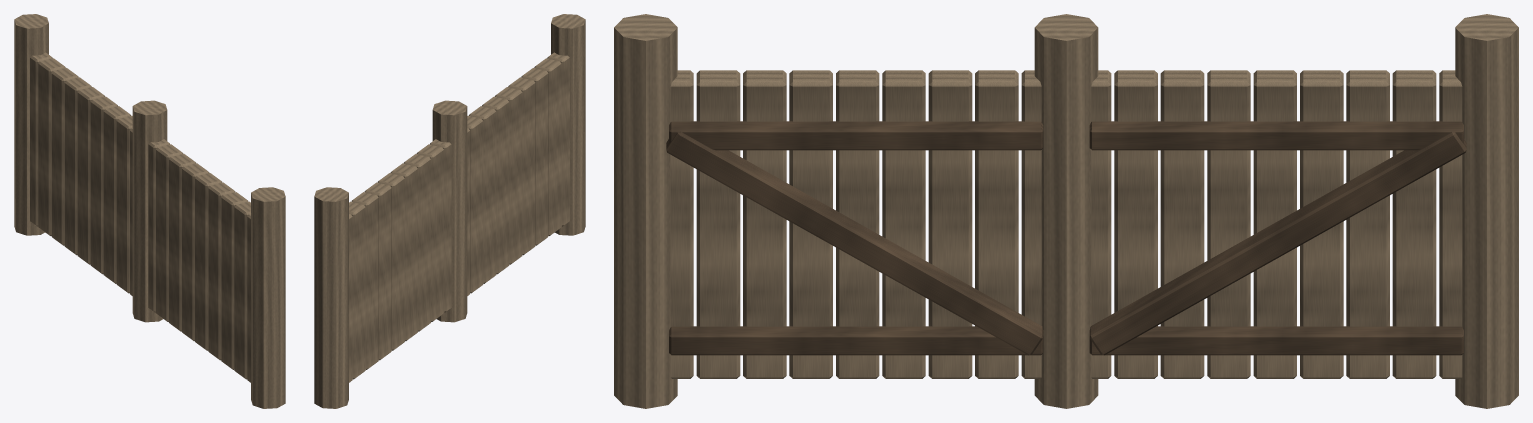
The model's file is gate.glb.
The picture shows the model from 3 angles, left to right: view 1: azimuth 30°, elevation 25°; view 2: azimuth 150°, elevation 25°; view 3: azimuth 270°, elevation 25°; orthographic projection. The views are drawn at different scales.
Parts seen in each view (by area): view 1: gate__Timber_worn_edges; view 2: gate__Timber_worn_edges; view 3: gate__Timber_worn_edges, gate__Dark_endgrain.
Part boxes in pixels (x1=…): gate__Timber_worn_edges: x1=14, y1=14, x2=285, y2=408; gate__Timber_worn_edges: x1=314, y1=14, x2=585, y2=408; gate__Timber_worn_edges: x1=614, y1=14, x2=1518, y2=408; gate__Dark_endgrain: x1=666, y1=121, x2=1466, y2=355.
Size of the model in its own units: 0.255 by 1.4 by 3.12.
2 materials, 2 textured.
